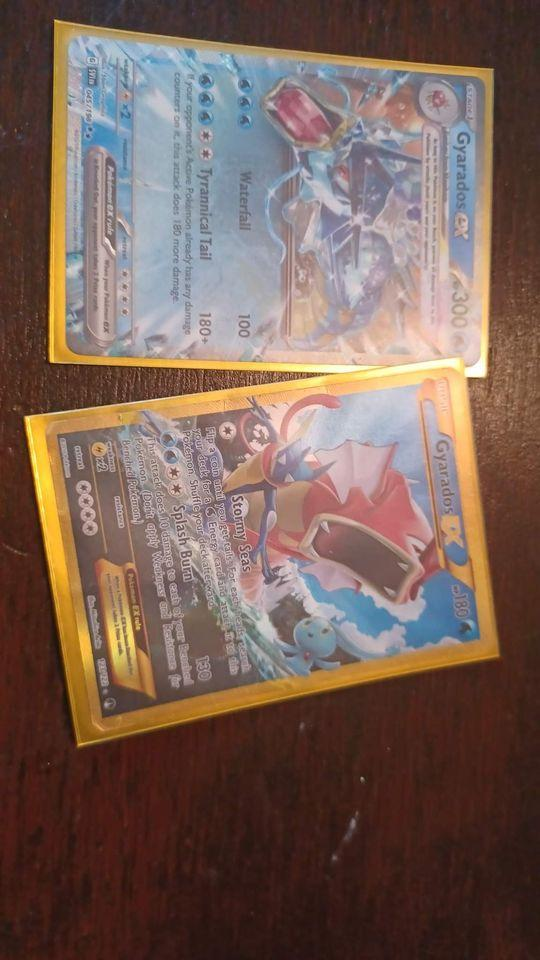card: (45, 366, 496, 731), (65, 35, 487, 367)
